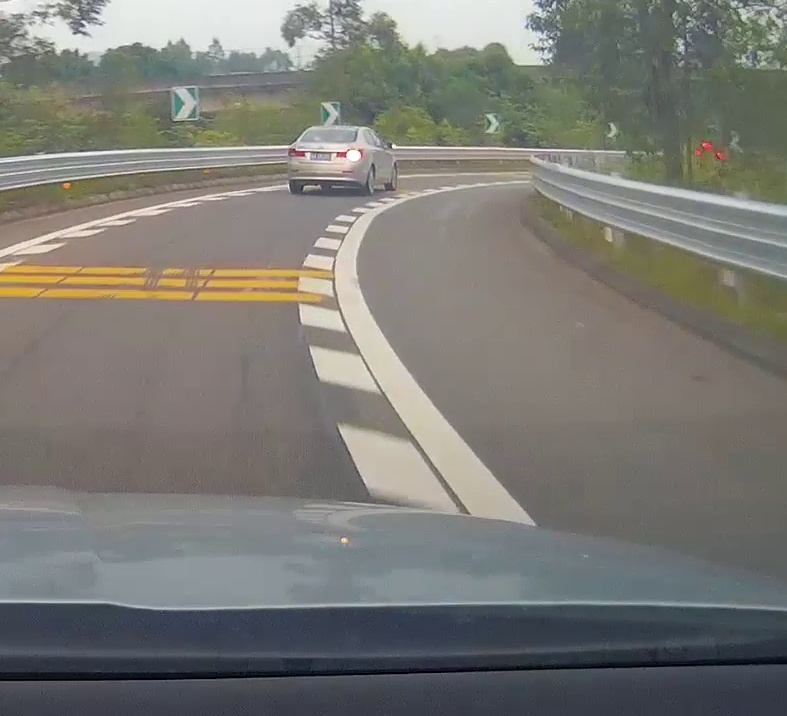L_light: (288, 148, 306, 157)
R_light: (336, 148, 363, 160)
T_light: (324, 129, 337, 131)
day-right: (286, 126, 365, 193)
